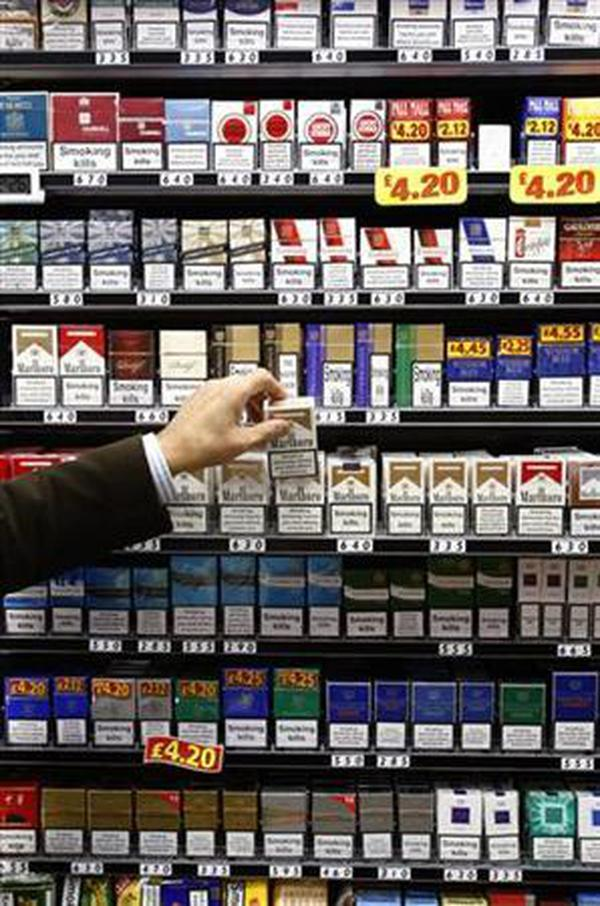chesterfield_red: (511, 220, 553, 285)
lucky_strike_red: (211, 100, 256, 175), (298, 103, 343, 160), (261, 100, 296, 168), (351, 100, 381, 170)
marlboro_red: (516, 463, 568, 538), (61, 328, 101, 403)
